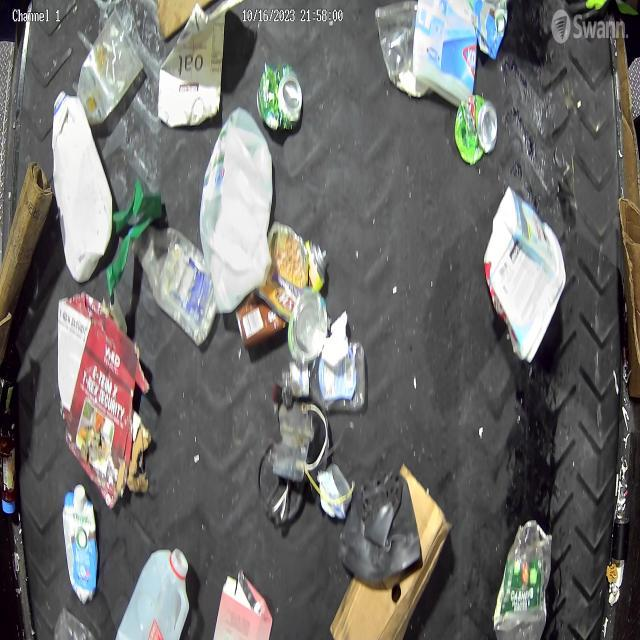can: (234, 236, 330, 352), (453, 94, 501, 168), (255, 61, 304, 133), (287, 287, 329, 363), (300, 402, 330, 484), (317, 462, 354, 522)
milk_jug: (198, 107, 275, 317), (50, 86, 113, 288), (114, 543, 190, 640)
plastic_bottle: (128, 221, 219, 346)
